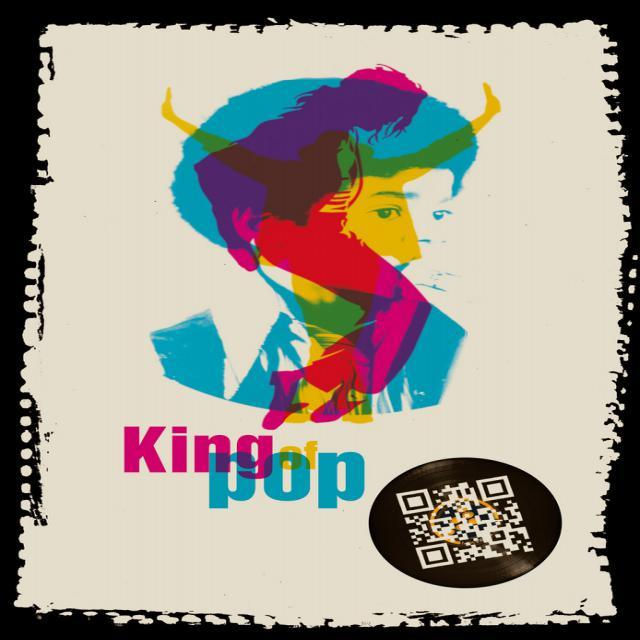qrcode: (396, 476, 535, 570)
